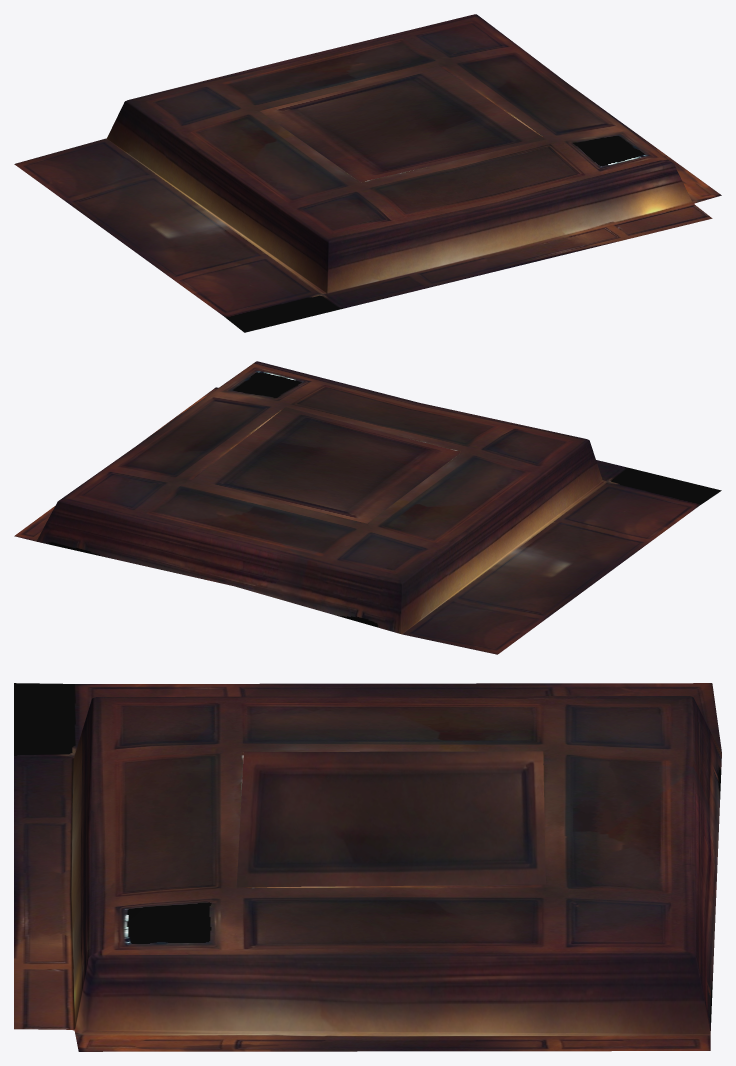
Rendered from LivingRoom_GEO_GRP_LivingRoom_Ceiling_01.obj.
The picture shows the model from 3 angles, top to bottom: view 1: azimuth 30°, elevation 25°; view 2: azimuth 150°, elevation 25°; view 3: azimuth 270°, elevation 25°; orthographic projection. The views are drawn at different scales.
Parts seen in each view (by area): view 1: LivingRoom_GEO_GRP_LivingRoom_Ceiling_01; view 2: LivingRoom_GEO_GRP_LivingRoom_Ceiling_01; view 3: LivingRoom_GEO_GRP_LivingRoom_Ceiling_01.
Boxes of the visible parts, bbox=[...] form: LivingRoom_GEO_GRP_LivingRoom_Ceiling_01: bbox=[14, 14, 721, 332]; LivingRoom_GEO_GRP_LivingRoom_Ceiling_01: bbox=[14, 361, 721, 654]; LivingRoom_GEO_GRP_LivingRoom_Ceiling_01: bbox=[14, 683, 721, 1051].
Size of the model in its own units: 8.6 by 0.7938 by 6.98.
1 material, 1 textured.
